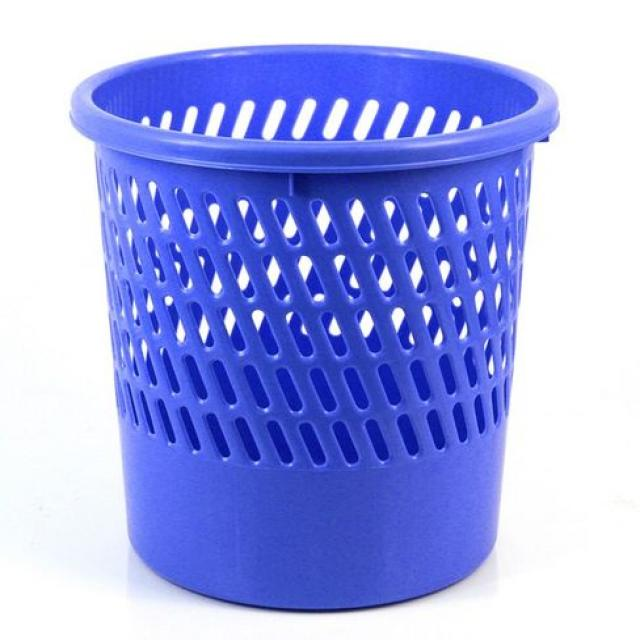Dustbin: (63, 36, 566, 620)
